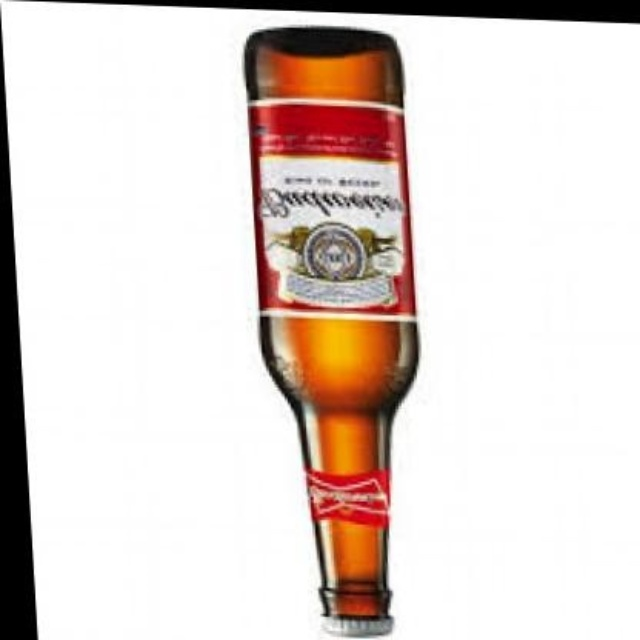trash: (245, 28, 417, 634)
